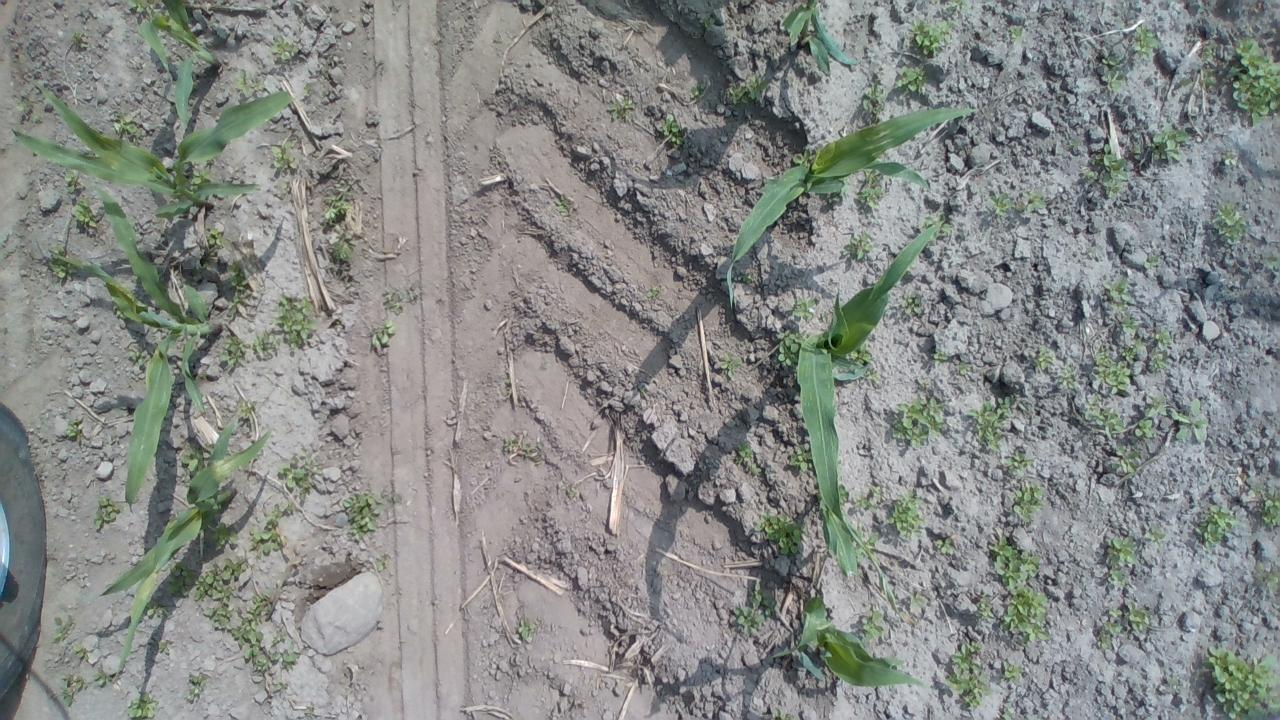Maize: (52, 186, 220, 516), (796, 219, 947, 578), (724, 105, 981, 311), (99, 400, 274, 684), (7, 83, 295, 219), (791, 582, 930, 692), (782, 1, 859, 82), (143, 2, 230, 68)
Weeds: (736, 445, 802, 558), (1206, 640, 1280, 718), (232, 592, 295, 682), (1228, 37, 1280, 120), (190, 556, 241, 630), (322, 180, 364, 264), (1085, 144, 1140, 202), (884, 391, 943, 445), (946, 637, 991, 707), (982, 535, 1040, 587), (1002, 586, 1052, 646), (278, 293, 315, 352), (968, 399, 1011, 448), (274, 454, 318, 501), (723, 70, 774, 110), (344, 494, 386, 541), (1103, 537, 1139, 591), (1148, 123, 1194, 165), (1140, 326, 1180, 372), (1174, 398, 1210, 446), (731, 591, 773, 632), (1078, 403, 1128, 436), (1007, 480, 1044, 523), (888, 492, 925, 534), (1134, 398, 1170, 440), (850, 608, 887, 648), (1196, 509, 1236, 546), (248, 514, 284, 554), (1209, 206, 1244, 246), (1108, 301, 1140, 344), (1092, 356, 1130, 389), (1110, 604, 1148, 637), (1109, 446, 1144, 480), (776, 330, 808, 367), (912, 21, 952, 49), (92, 496, 120, 530), (220, 330, 242, 373), (270, 136, 296, 172), (862, 84, 891, 116), (1094, 618, 1122, 651), (1256, 492, 1280, 530), (60, 676, 88, 708), (270, 34, 302, 62), (1030, 346, 1058, 378), (892, 66, 925, 93), (859, 172, 883, 209), (1103, 278, 1136, 304), (1018, 190, 1048, 218), (608, 97, 639, 123), (48, 245, 71, 280), (372, 317, 394, 353), (180, 448, 208, 476), (1054, 369, 1082, 397), (855, 487, 888, 510), (72, 197, 96, 228), (661, 114, 684, 146), (52, 614, 74, 647), (841, 236, 870, 260), (1102, 64, 1128, 90), (110, 116, 142, 136), (1132, 31, 1158, 55), (235, 69, 262, 92), (932, 537, 958, 560), (128, 698, 156, 718), (984, 198, 1012, 218), (1259, 568, 1280, 594), (142, 600, 170, 619), (185, 672, 204, 700), (205, 229, 228, 252), (252, 326, 266, 361), (131, 350, 150, 374), (1144, 524, 1166, 544), (794, 300, 818, 318), (558, 194, 574, 220), (66, 417, 84, 440), (513, 620, 530, 644), (906, 296, 928, 314), (172, 564, 187, 590), (1002, 665, 1022, 682), (1004, 27, 1022, 42), (978, 605, 991, 618), (127, 1, 139, 12)
